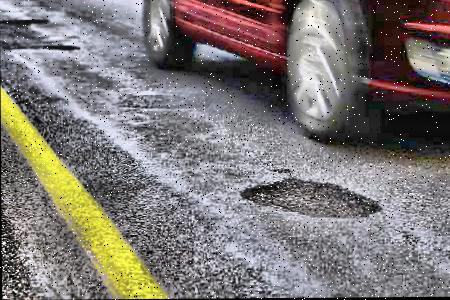pothole: (238, 176, 381, 219), (42, 42, 79, 51), (270, 166, 290, 174)
